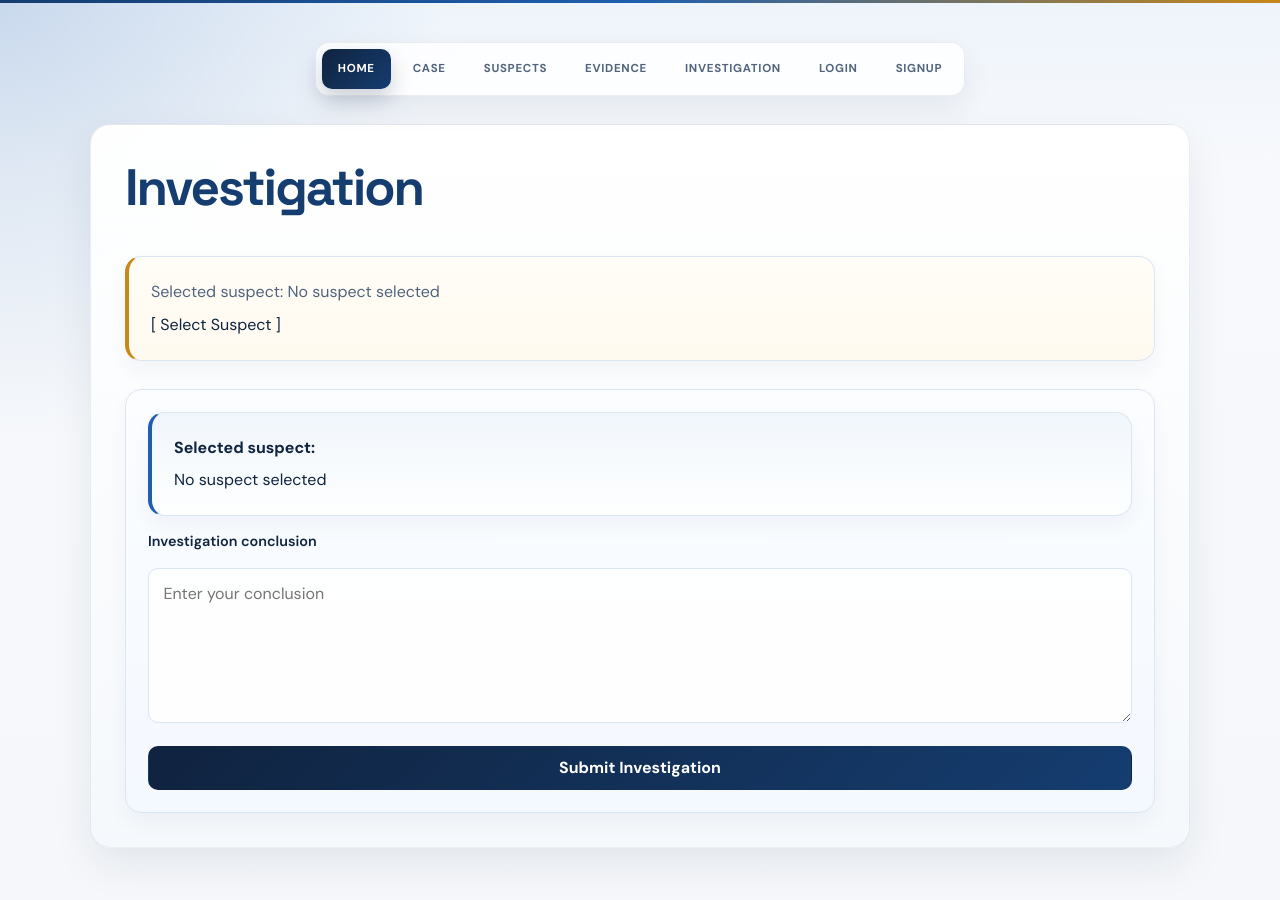
Test: Investigation workflow › displays an error when the investigation API request fails
The image size is (1280, 900).
Type "Evidence supports this conclusion." into the text box labelled "Investigation conclusion". click: point(640, 645)
box: top-left (148, 568), bottom-right (1132, 723)
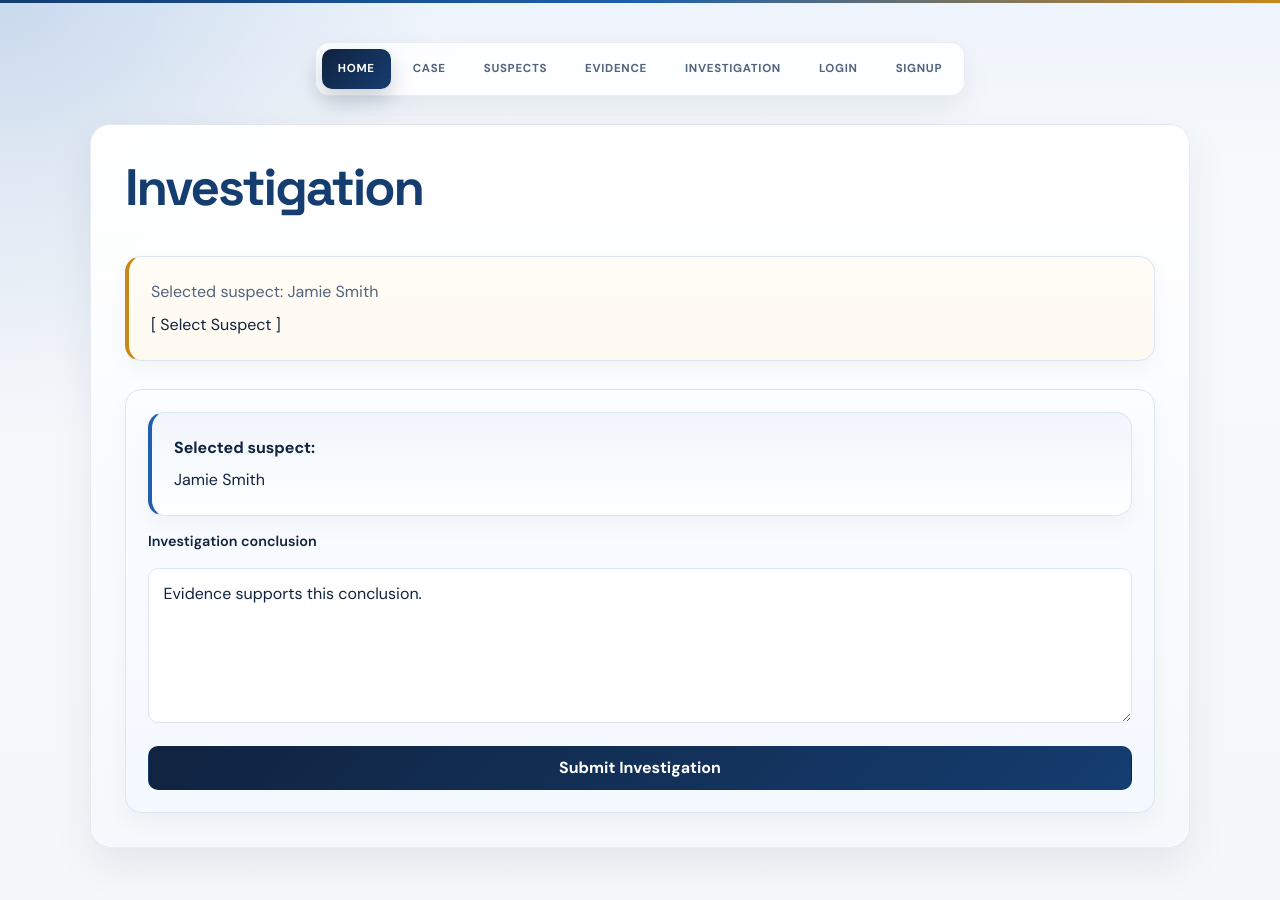
Click the button "Submit Investigation". click: point(640, 768)
box: top-left (148, 746), bottom-right (1132, 790)
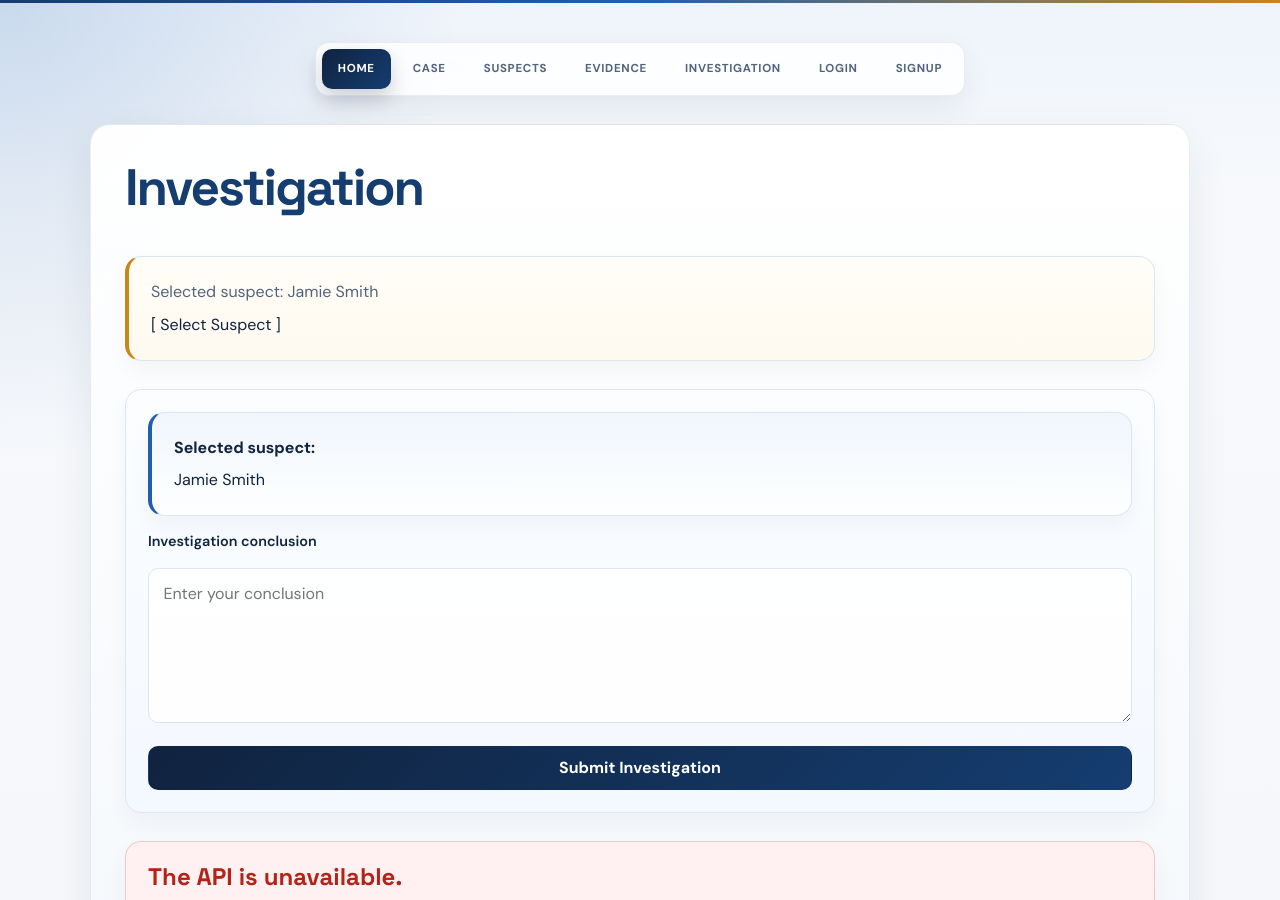
Check: the heading "The API is unavailable." is shown, box top-left (148, 860), bottom-right (402, 892)
